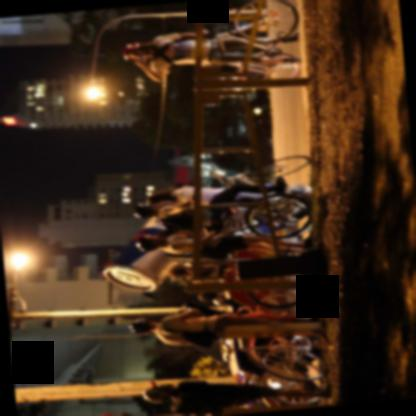backpack: (160, 323, 221, 349), (169, 396, 223, 415), (157, 208, 194, 231)
handbag: (164, 240, 234, 259), (159, 326, 218, 348)
